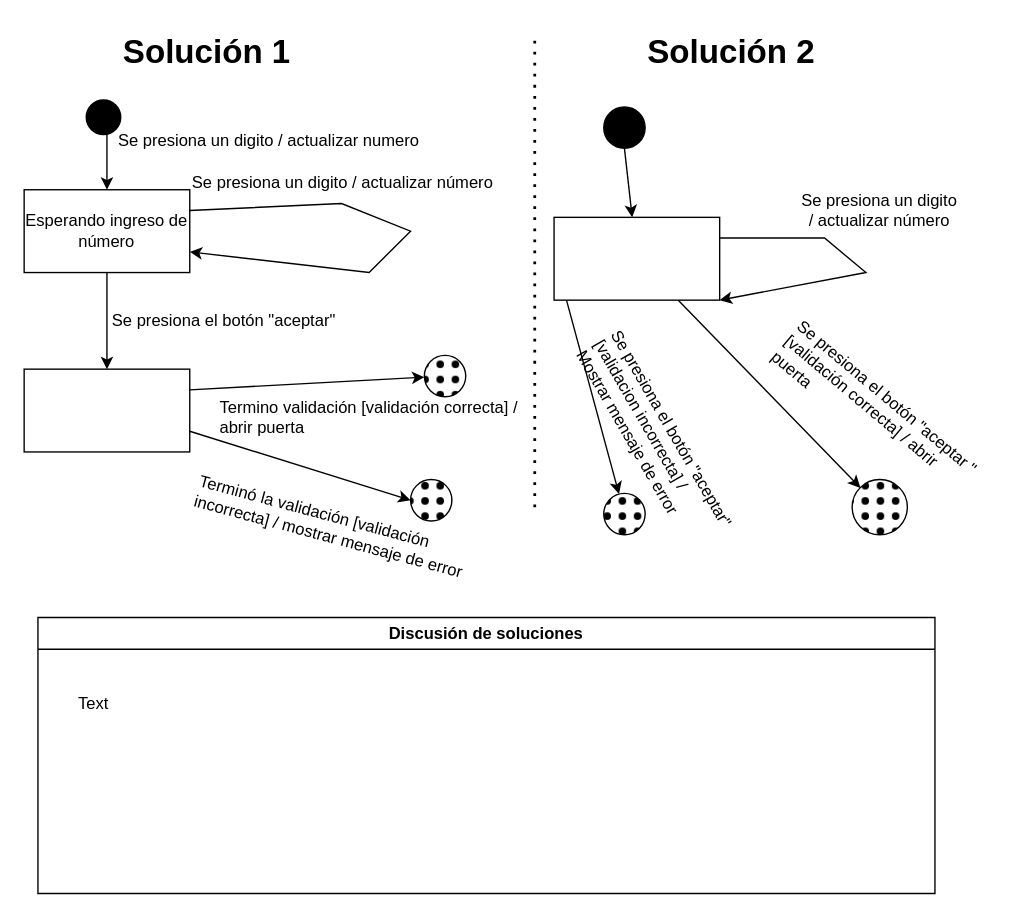
Some shapes in this 1018 by 918 pixel diagram are drawn without their labels. Each missing label, with the centre of its shape:
Esperando Ingreso de numero: pixel 636 258
Validando número: pixel 106 410
